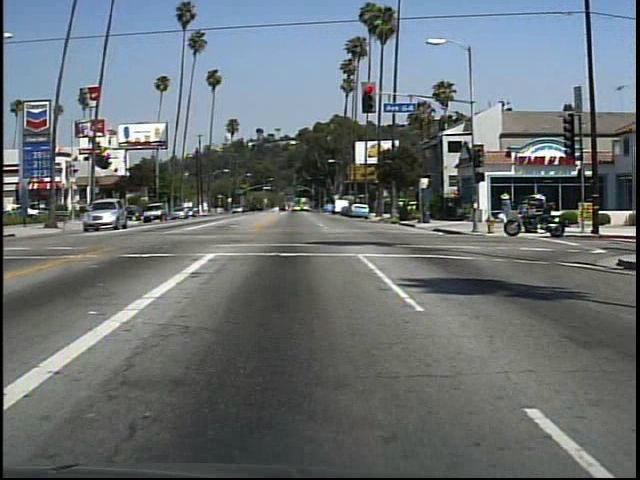person: (529, 193, 557, 235), (494, 188, 518, 231)
